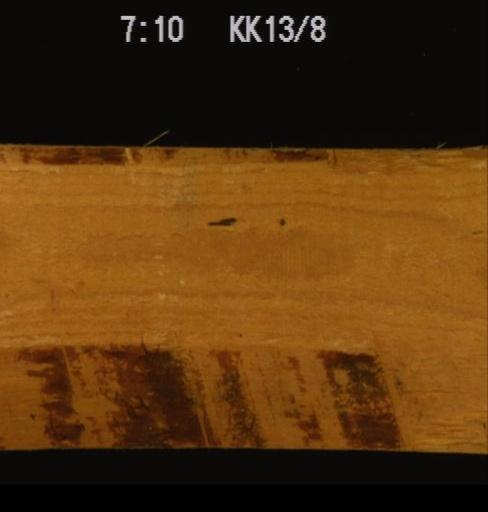small_knot: (272, 211, 287, 228)
wave: (0, 340, 486, 452), (2, 143, 349, 176)
